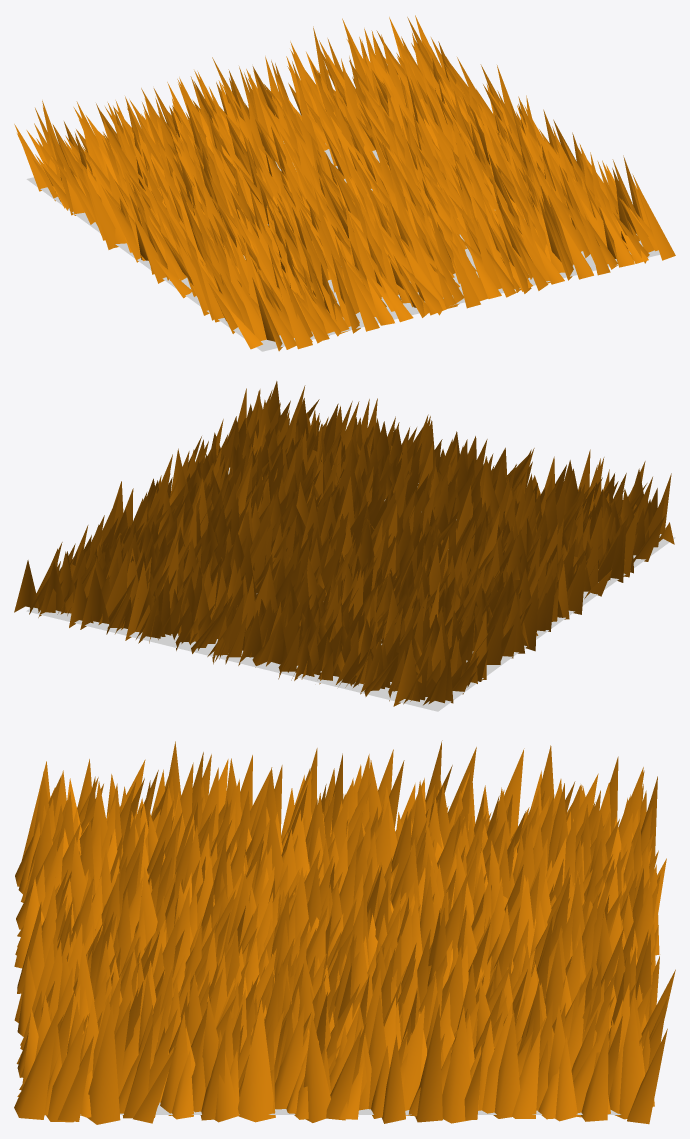
The model's file is grass7.fbx.
The picture shows the model from 3 angles, top to bottom: view 1: azimuth 30°, elevation 25°; view 2: azimuth 150°, elevation 25°; view 3: azimuth 270°, elevation 25°; orthographic projection. The views are drawn at different scales.
Parts seen in each view (by area): view 1: Plane.021; view 2: Plane.021; view 3: Plane.021.
Boxes of the visible parts, x1,y1,x2,y2 form: Plane.021: (14, 15, 675, 351); Plane.021: (14, 381, 675, 711); Plane.021: (14, 740, 675, 1124).
Size of the model in its own units: 521 by 97.34 by 518.
